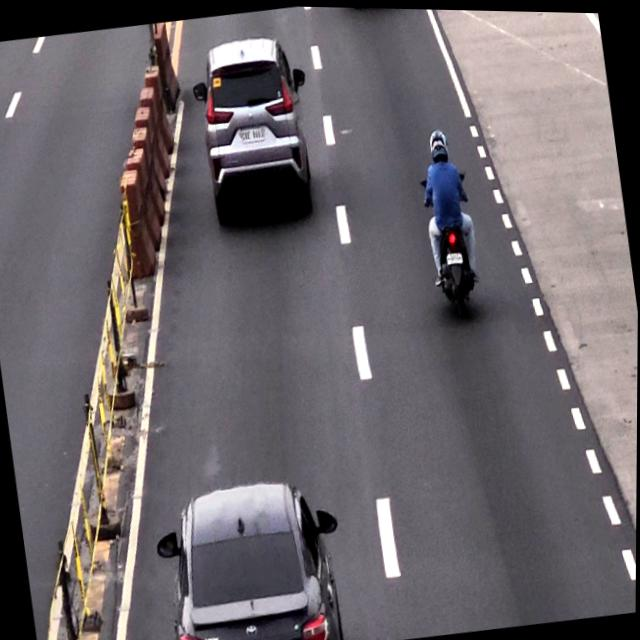Car: (160, 470, 350, 640), (190, 30, 316, 231)
License-Plate: (239, 124, 266, 142), (446, 249, 466, 263)
Motorcycle: (414, 123, 487, 314)
